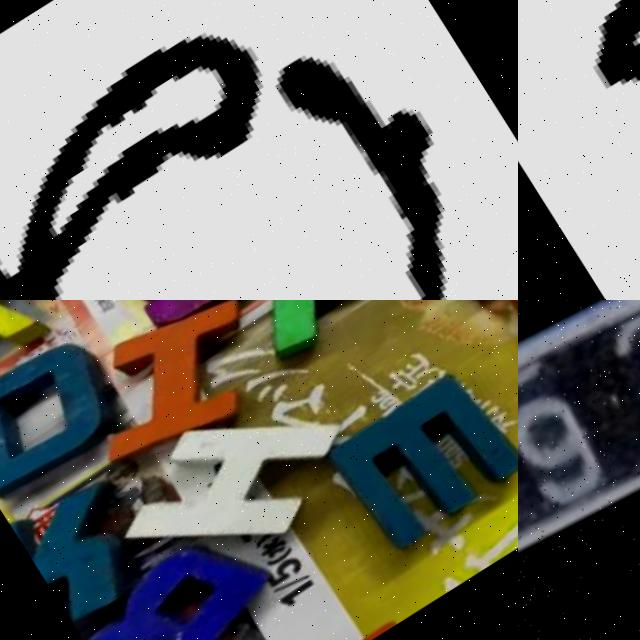2: (580, 300, 640, 441)
9: (518, 367, 628, 531)
D: (0, 327, 122, 500)
F: (231, 300, 444, 367)
H: (101, 362, 374, 601)
I: (81, 300, 284, 469)
M: (331, 361, 518, 556)
O: (0, 0, 518, 300)
S: (106, 300, 279, 342)
X: (0, 300, 61, 389)
